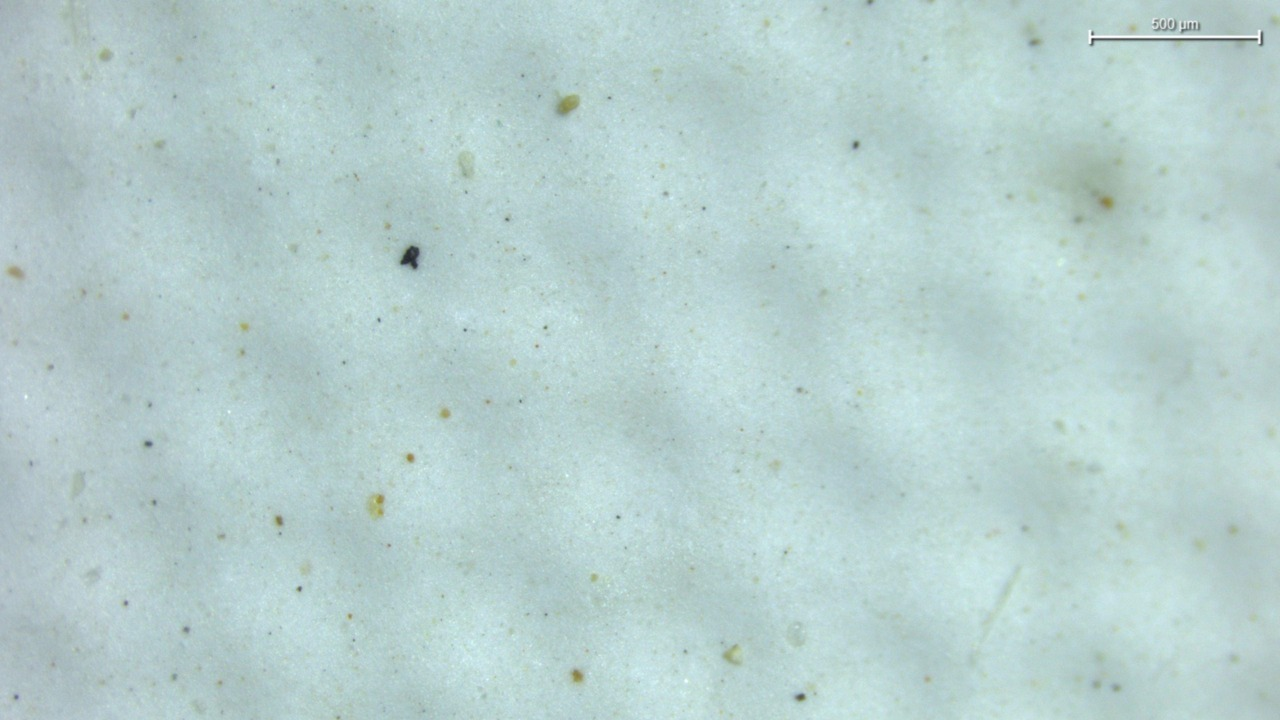microplastic_fragment: (400, 245, 420, 268)
